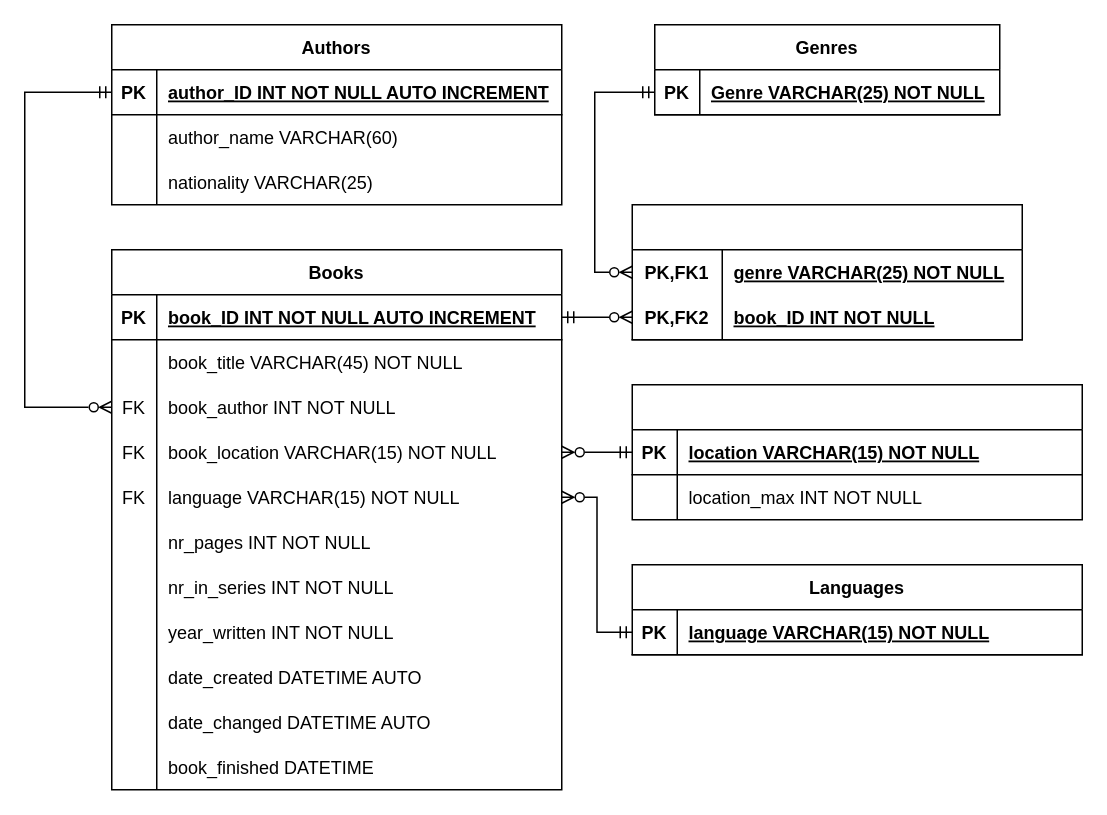
This 1107x815 diagram has some shape labels left out. Here are the shapes that lost their labels. From the top down, the box of each, then its label:
(631, 203, 1022, 340): Books_by_genre
(631, 383, 1082, 520): Locations
